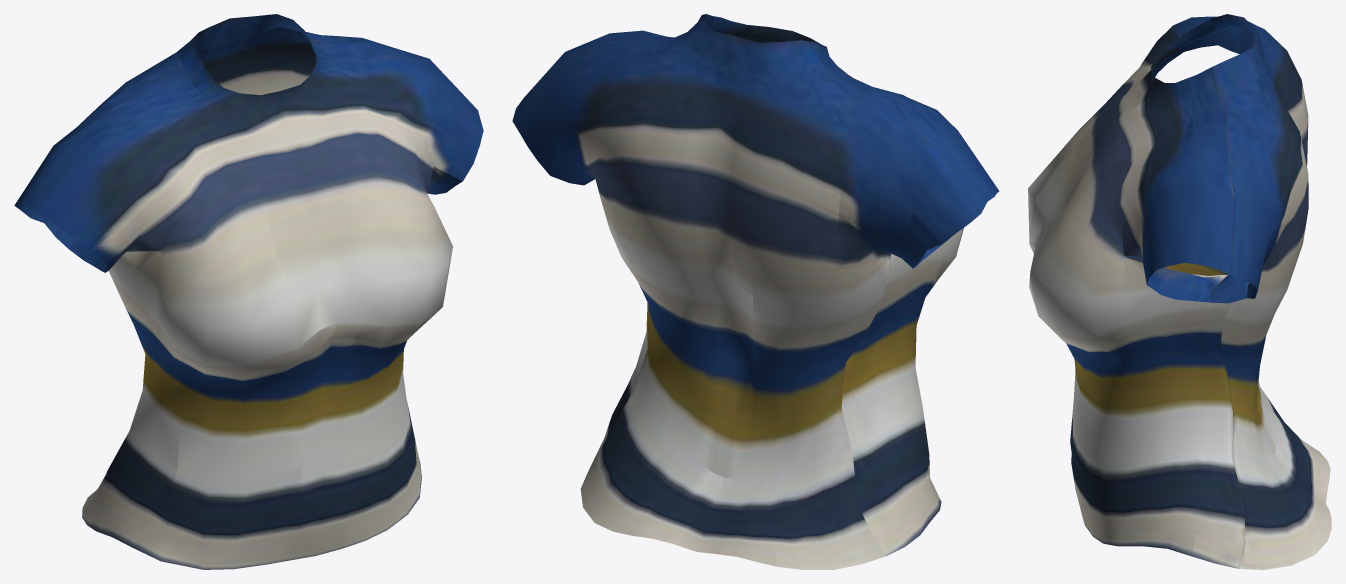
The model's file is TXS_XLF.dae.
3 renders of one model, left to right at view 1: azimuth 30°, elevation 25°; view 2: azimuth 150°, elevation 25°; view 3: azimuth 270°, elevation 25°, orthographic. The views are drawn at different scales.
Visible parts, largest first — view 1: TXS; view 2: TXS; view 3: TXS.
Part boxes in pixels (x1,y1,x2,y2): TXS: (14, 14, 483, 569); TXS: (512, 14, 999, 569); TXS: (1028, 14, 1331, 569).
Bounding box in the file's own units: 4.99 × 5.03 × 2.95.
